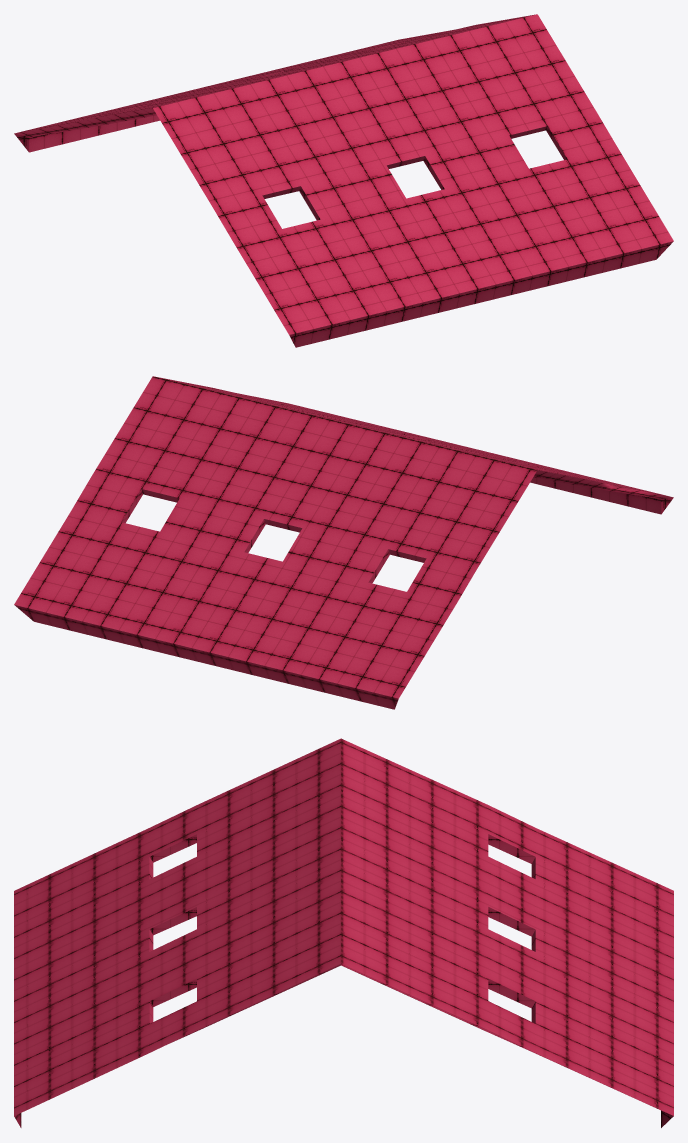
File: Casa_INTERIOR_techo.fbx
3 renders of one model, top to bottom at view 1: azimuth 30°, elevation 25°; view 2: azimuth 150°, elevation 25°; view 3: azimuth 270°, elevation 25°, orthographic. The views are drawn at different scales.
Parts seen in each view (by area): view 1: Casa_INTERIOR_techo; view 2: Casa_INTERIOR_techo; view 3: Casa_INTERIOR_techo.
Part boxes in pixels (<box>): Casa_INTERIOR_techo: <box>14,14,673,347</box>; Casa_INTERIOR_techo: <box>14,376,673,709</box>; Casa_INTERIOR_techo: <box>14,738,673,1127</box>.
Bounding box in the file's own units: 10.38 × 3.72 × 12.85.
